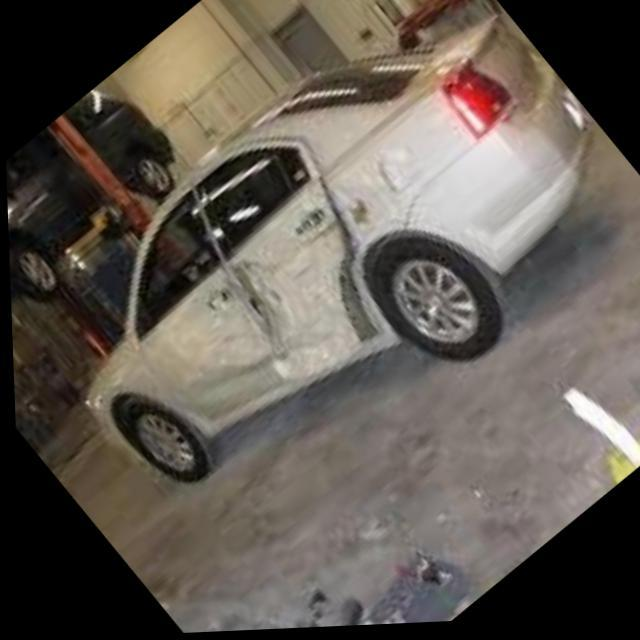dent: (162, 154, 421, 417)
